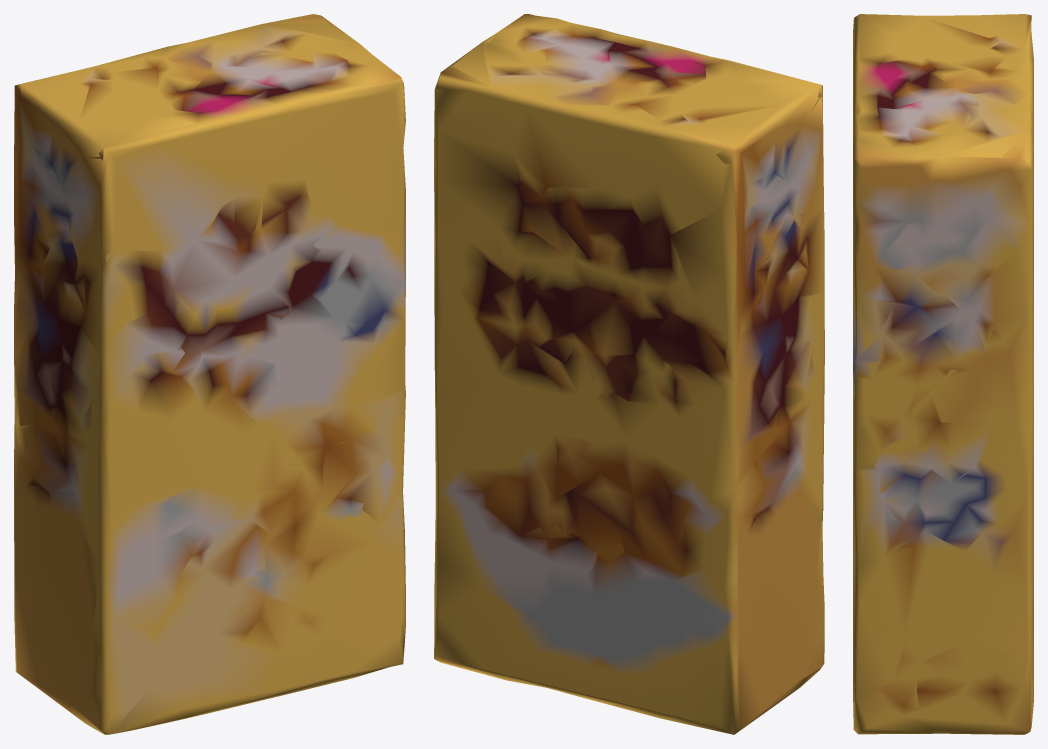
File: gen3d-cereal-box-lod0.glb
The picture shows the model from 3 angles, left to right: view 1: azimuth 30°, elevation 25°; view 2: azimuth 150°, elevation 25°; view 3: azimuth 270°, elevation 25°; orthographic projection. The views are drawn at different scales.
Parts seen in each view (by area): view 1: part_0; view 2: part_0; view 3: part_0.
Part boxes in pixels (bbox=[...]): part_0: bbox=[14, 14, 405, 734]; part_0: bbox=[434, 14, 824, 734]; part_0: bbox=[853, 14, 1033, 734].
Size of the model in its own units: 0.5381 by 1 by 0.2823.
